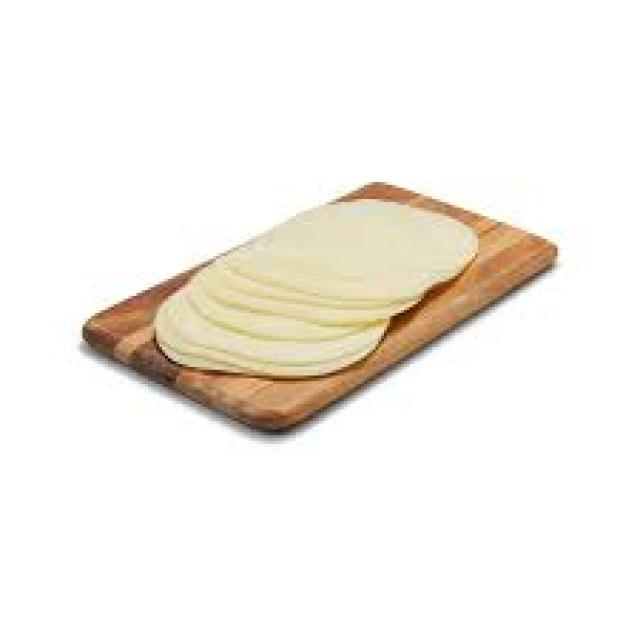cheese: (149, 194, 475, 370)
